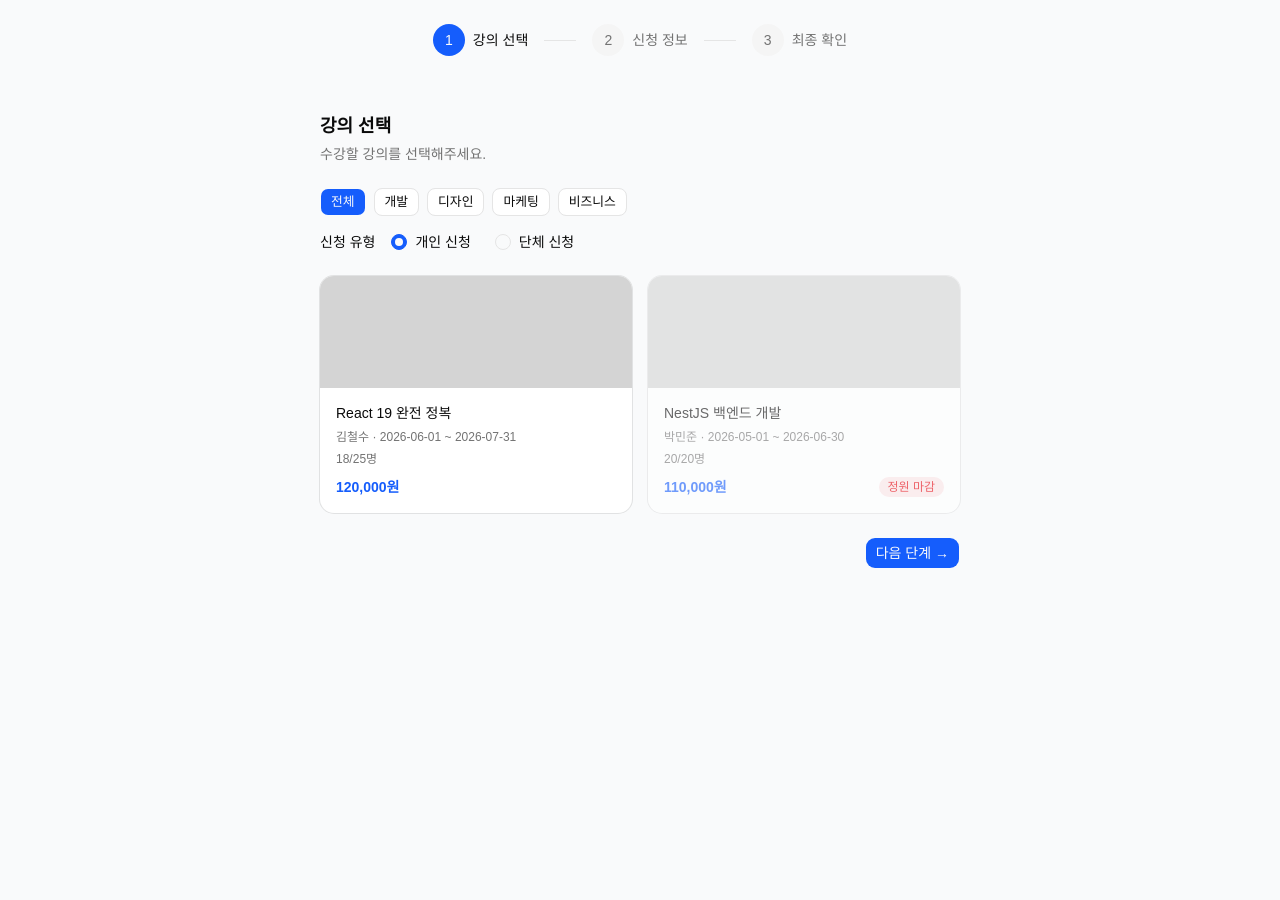
Test: EnrollmentPage 통합 테스트 › step2에서 "이전" 클릭 시 Step1으로 돌아온다
Click the text "React 19 완전 정복": (394, 413) [336,405,451,421]
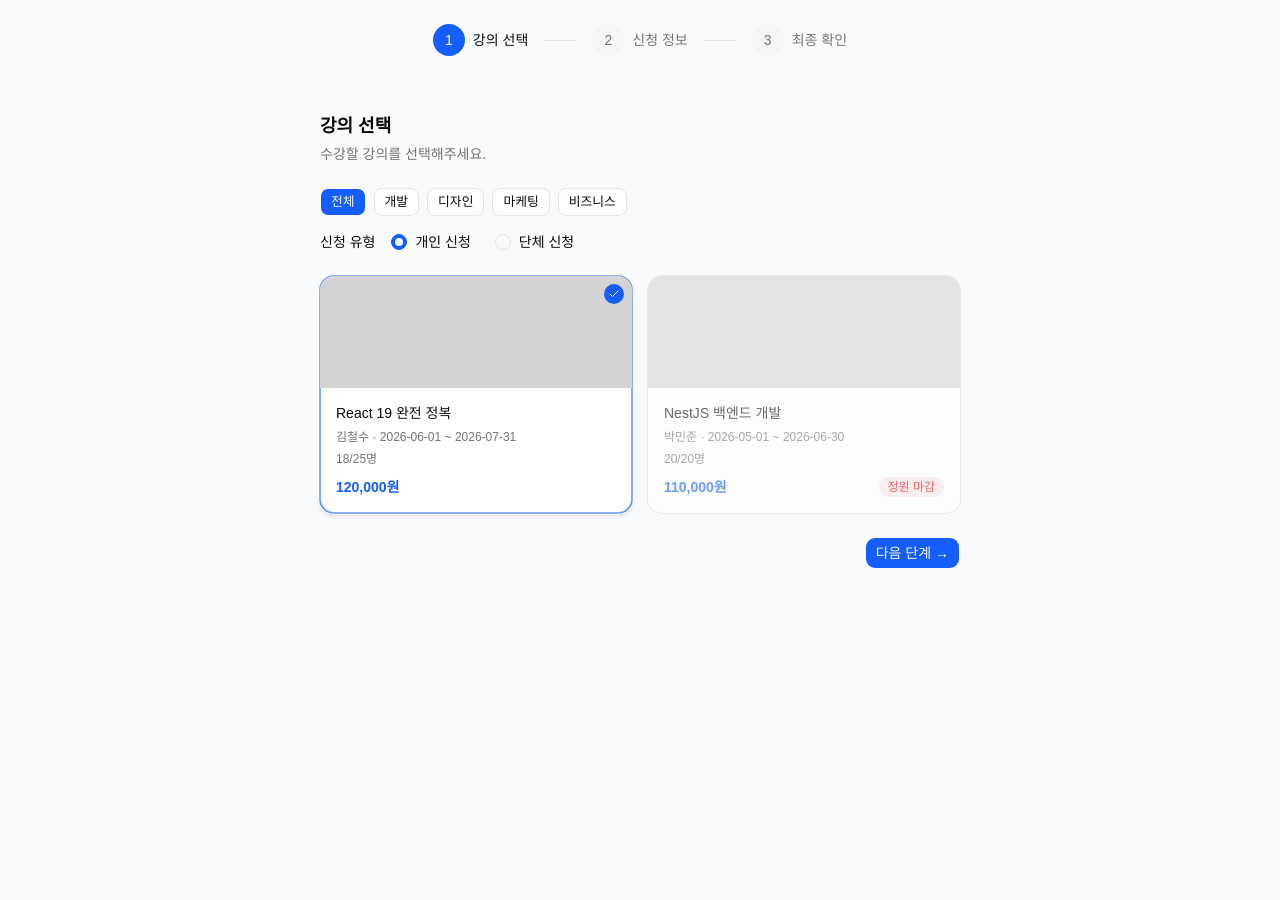
Click the button "다음 단계 →": (912, 553) [865,537,960,569]
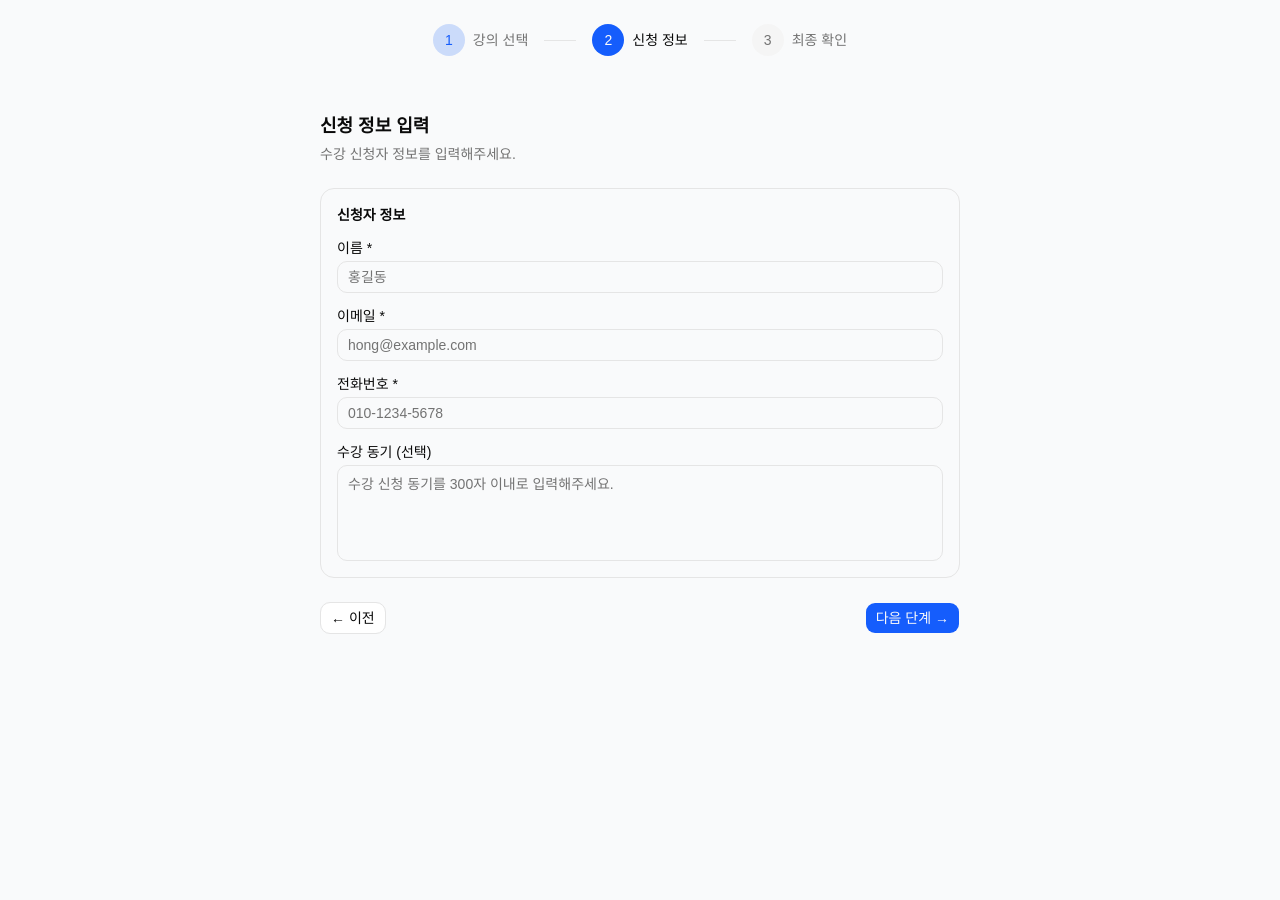
Check: the heading "신청 정보 입력" is shown, box [320,116,429,136]
Click the button "← 이전": (353, 618) [320,602,386,634]
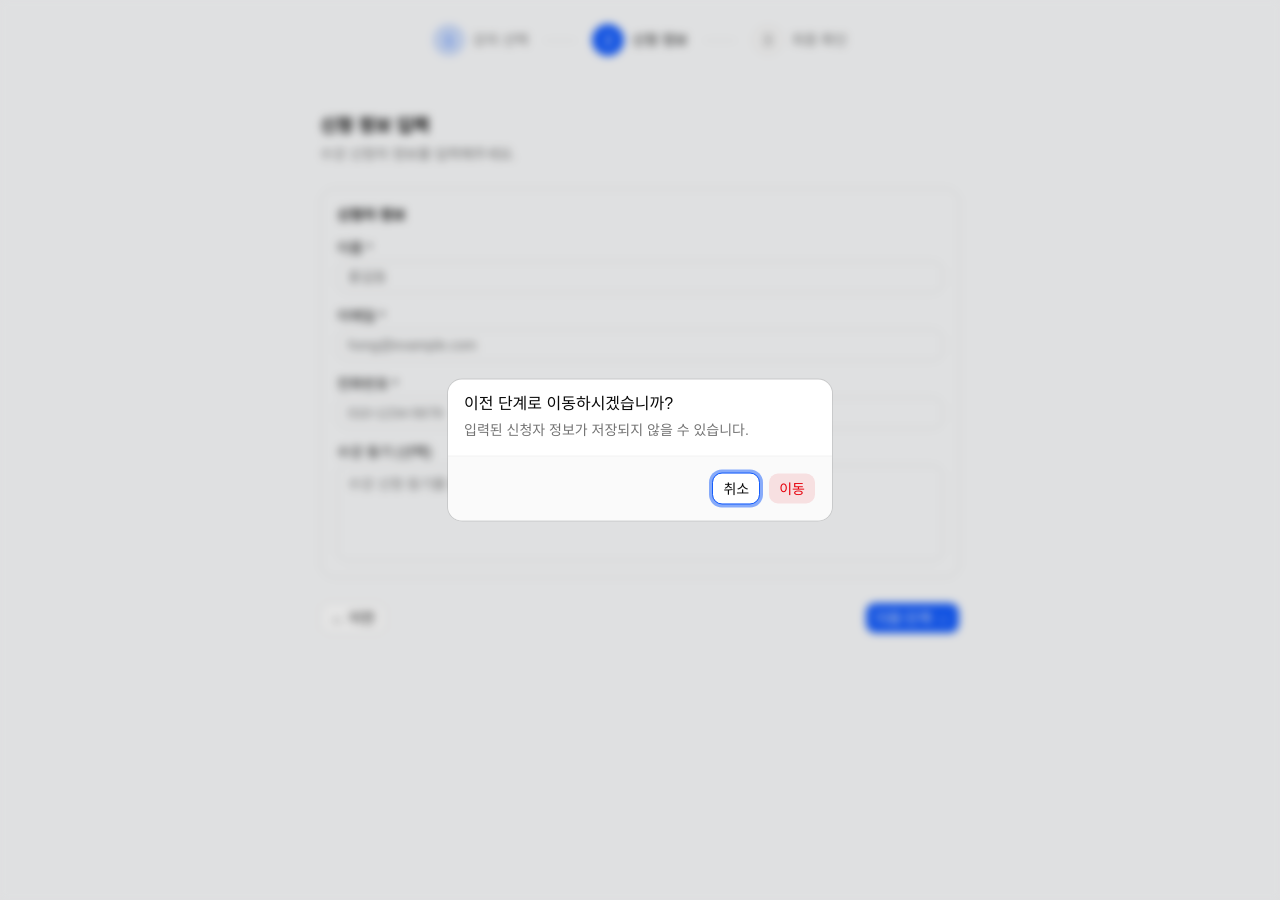
Check: the heading "이전 단계로 이동하시겠습니까?" is shown, box [464,394,673,412]
Click the button "이동": (792, 488) [768,472,816,504]
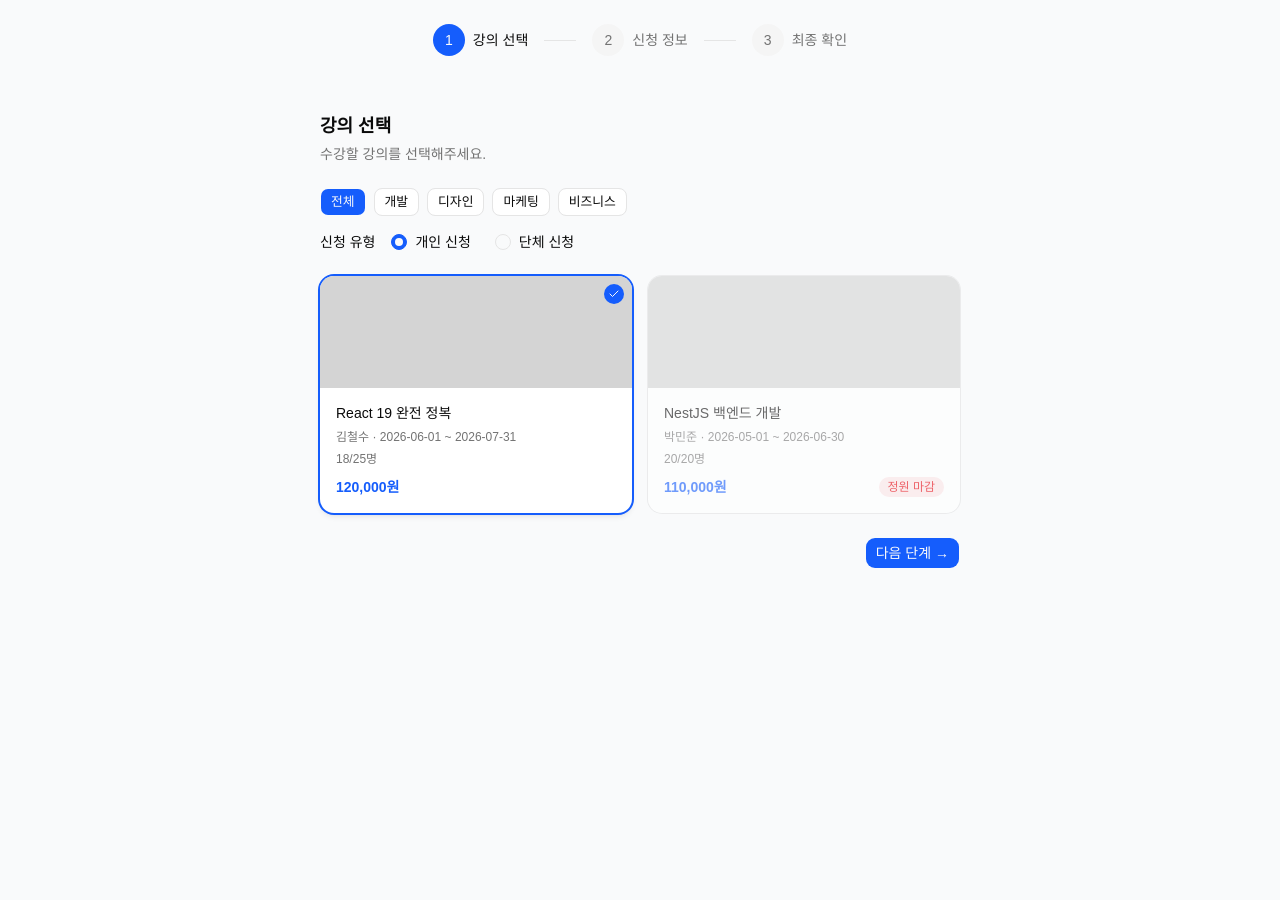
Check: the heading "강의 선택" is shown, box [320,116,391,136]
